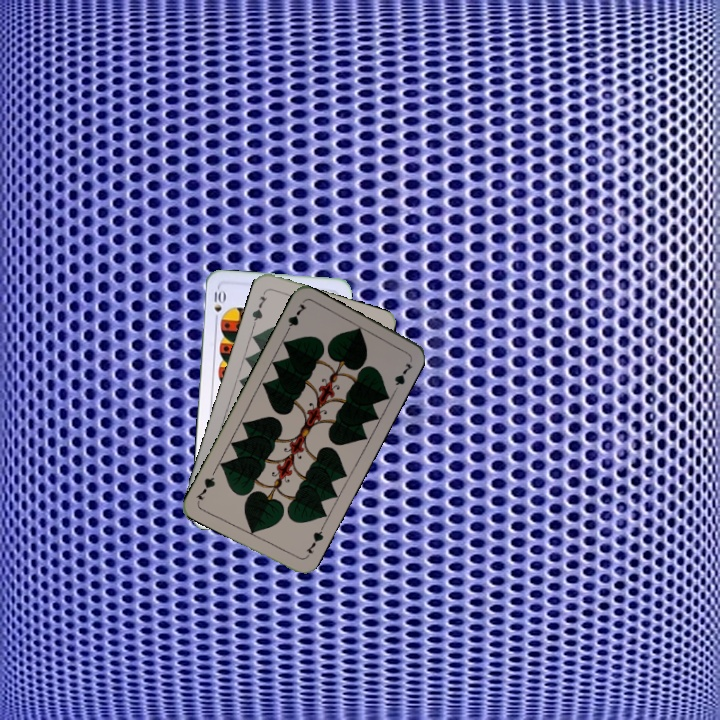G7: (281, 299, 309, 337), (301, 523, 326, 561), (248, 292, 269, 327)
S10: (210, 287, 227, 325)
